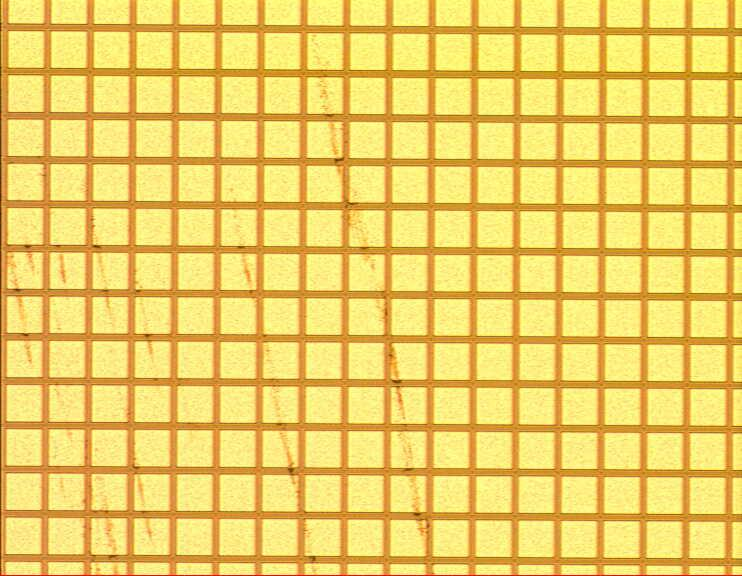SCRATCH: (1, 11, 452, 576)
